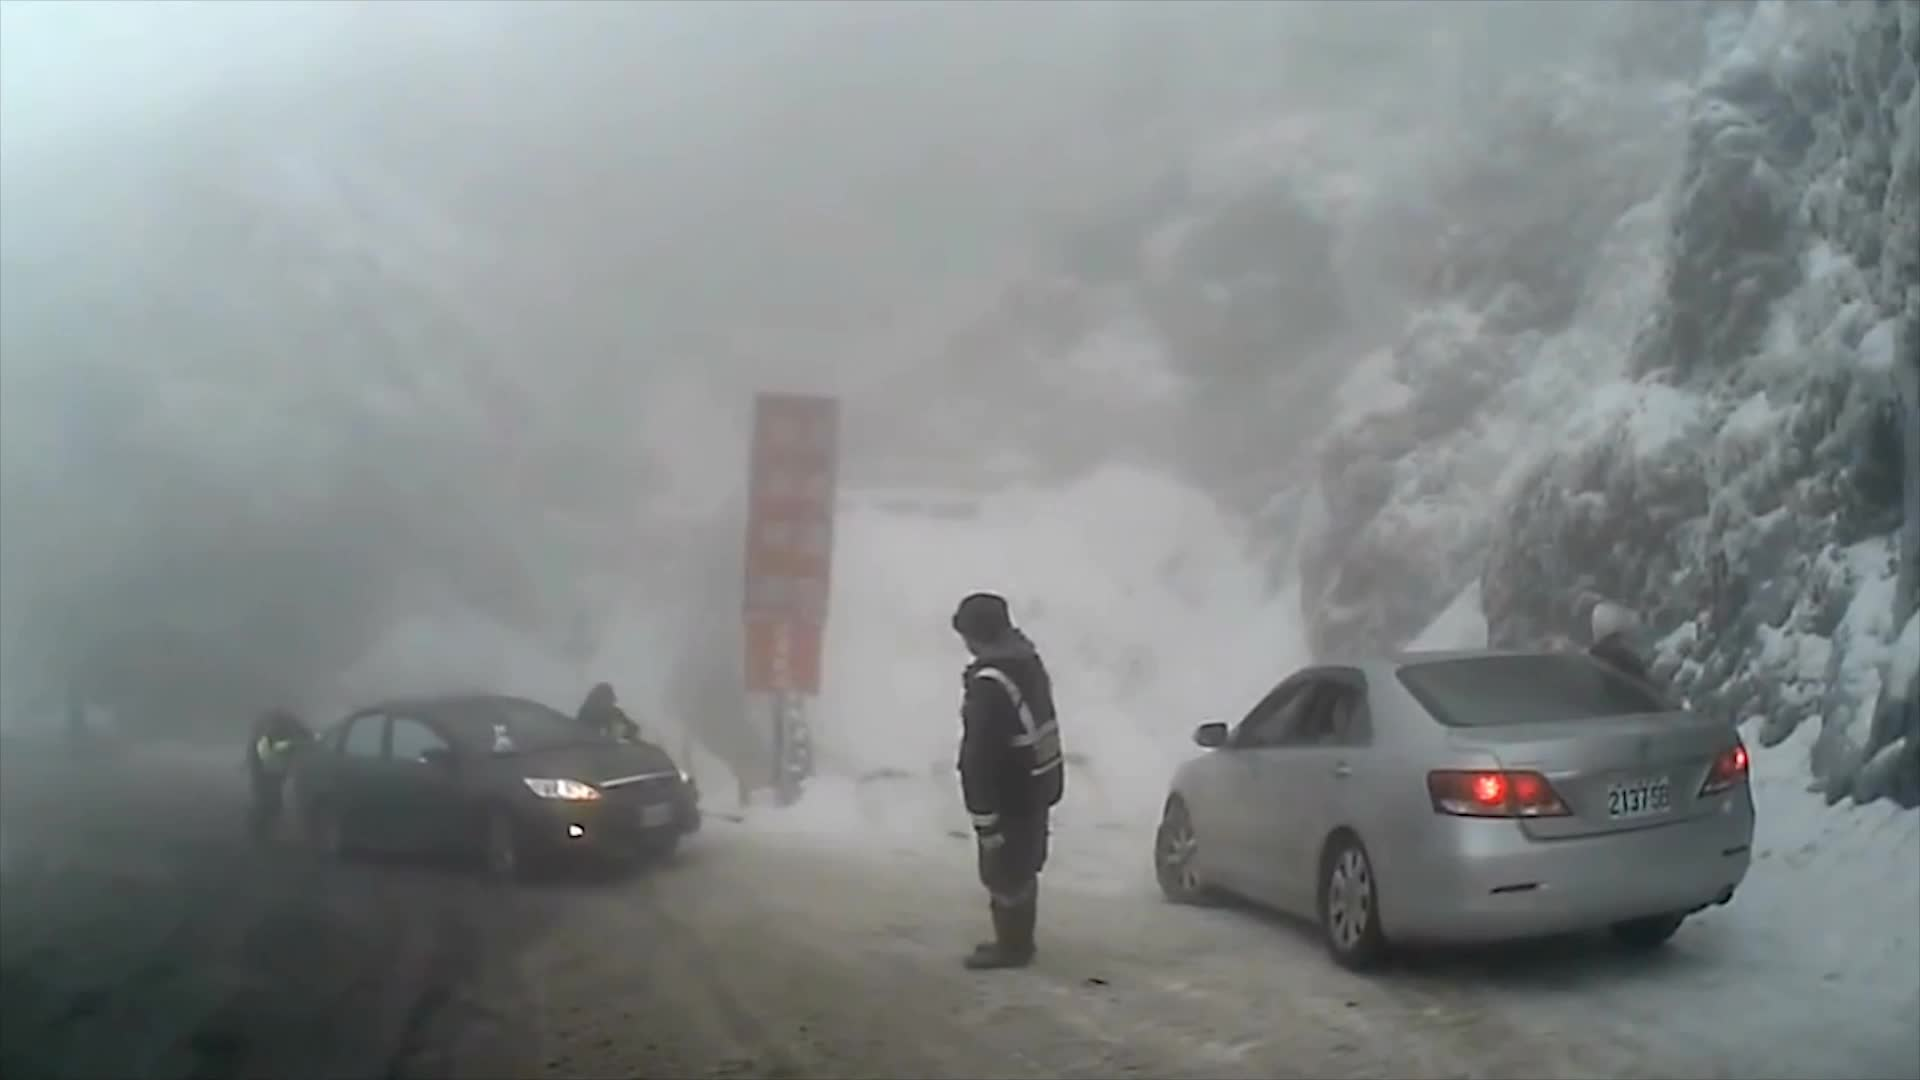pedestrian: (948, 593, 1065, 972), (1572, 595, 1652, 853), (568, 683, 644, 810), (243, 717, 316, 837)
vehicle: (1151, 649, 1754, 973), (281, 694, 700, 882)
